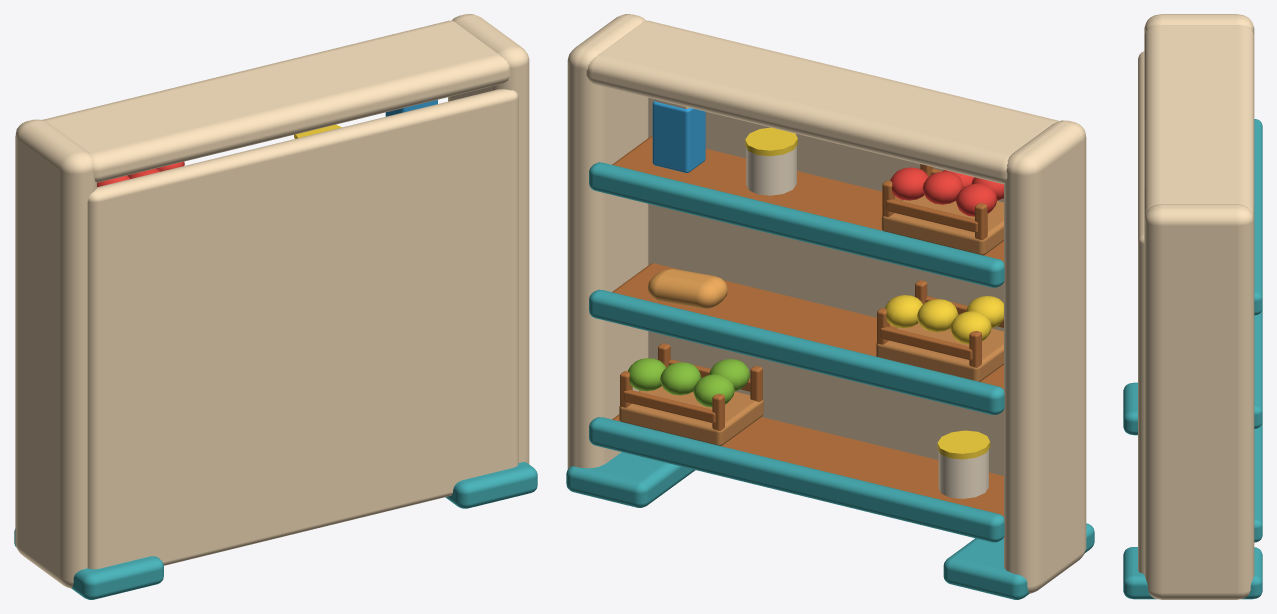
Rendered from ShelfPartial.glb.
The picture shows the model from 3 angles, left to right: view 1: azimuth 30°, elevation 25°; view 2: azimuth 150°, elevation 25°; view 3: azimuth 270°, elevation 25°; orthographic projection. The views are drawn at different scales.
Visible parts, largest first — view 1: BackPanel, LeftUpright, TopCrossbar, RightUpright, LeftFoot, RightFoot; view 2: BackPanel, LeftUpright, TopCrossbar, RightUpright, TealFrontRail_1, TealFrontRail_3, TealFrontRail_2, ShelfDeck_1, ShelfDeck_2, ShelfDeck_3, RightFoot, BottomApples_base (+15 smaller); view 3: RightUpright, TopCrossbar, BackPanel, TealFrontRail_3, RightFoot, LeftUpright, TealFrontRail_2, TealFrontRail_1, LeftFoot.
Boxes of the visible parts, x1=… form: BackPanel: x1=87, y1=89, x2=518, y2=569; LeftUpright: x1=15, y1=119, x2=96, y2=588; TopCrossbar: x1=42, y1=20, x2=510, y2=182; RightUpright: x1=448, y1=14, x2=529, y2=463; LeftFoot: x1=14, y1=529, x2=163, y2=599; RightFoot: x1=445, y1=462, x2=537, y2=508; BackPanel: x1=648, y1=97, x2=1003, y2=475; LeftUpright: x1=1004, y1=120, x2=1086, y2=593; TopCrossbar: x1=586, y1=20, x2=1059, y2=184; RightUpright: x1=567, y1=14, x2=648, y2=469; TealFrontRail_1: x1=589, y1=417, x2=1004, y2=542; TealFrontRail_3: x1=589, y1=162, x2=1004, y2=287; TealFrontRail_2: x1=589, y1=289, x2=1004, y2=414; ShelfDeck_1: x1=612, y1=414, x2=1003, y2=516; ShelfDeck_2: x1=612, y1=263, x2=1003, y2=389; ShelfDeck_3: x1=612, y1=136, x2=1003, y2=261; RightFoot: x1=566, y1=452, x2=695, y2=507; BottomApples_base: x1=619, y1=386, x2=763, y2=445; RightUpright: x1=1144, y1=204, x2=1254, y2=599; TopCrossbar: x1=1144, y1=25, x2=1254, y2=216; BackPanel: x1=1138, y1=51, x2=1144, y2=573; TealFrontRail_3: x1=1254, y1=119, x2=1262, y2=315; RightFoot: x1=1123, y1=547, x2=1262, y2=599; LeftUpright: x1=1144, y1=14, x2=1254, y2=35; TealFrontRail_2: x1=1254, y1=309, x2=1262, y2=428; TealFrontRail_1: x1=1254, y1=423, x2=1262, y2=542; LeftFoot: x1=1123, y1=382, x2=1137, y2=435.
Bounding box in the file's own units: 2.29 × 2.04 × 0.66.
